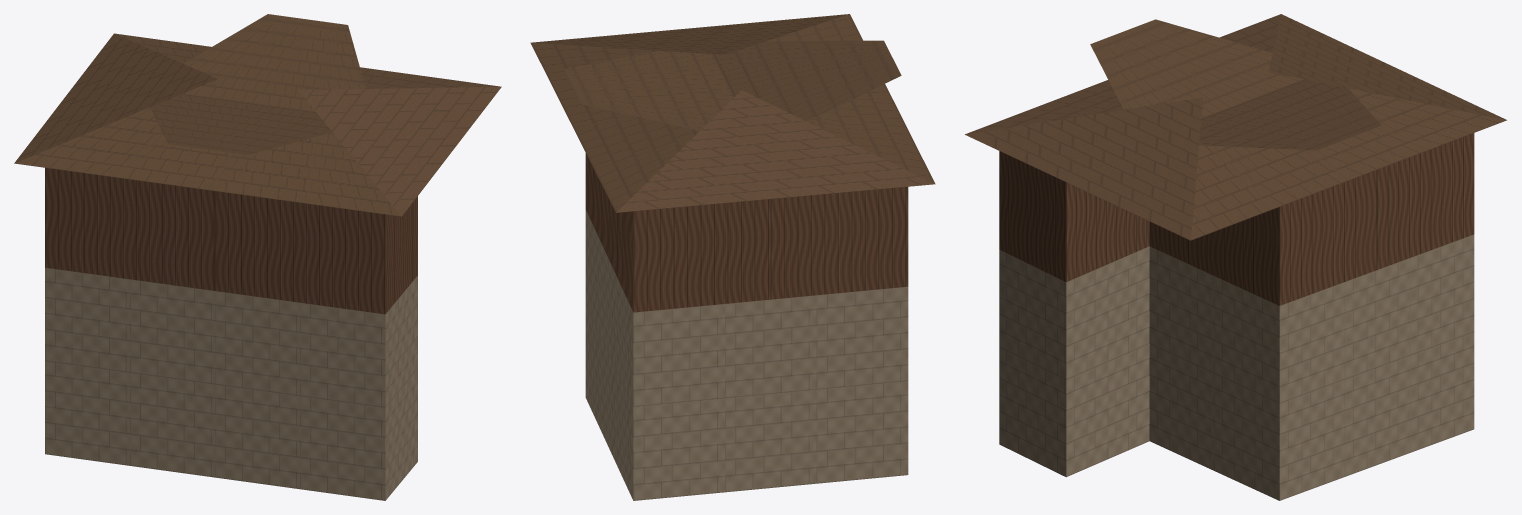
The model's file is bld_c-40_13_754.gltf.
The picture shows the model from 3 angles, left to right: view 1: azimuth 30°, elevation 25°; view 2: azimuth 150°, elevation 25°; view 3: azimuth 270°, elevation 25°; orthographic projection. The views are drawn at different scales.
Parts seen in each view (by area): view 1: bld_c-40_13_754; view 2: bld_c-40_13_754; view 3: bld_c-40_13_754.
Boxes of the visible parts, x1=… form: bld_c-40_13_754: x1=14, y1=14, x2=501, y2=500; bld_c-40_13_754: x1=530, y1=14, x2=935, y2=500; bld_c-40_13_754: x1=965, y1=14, x2=1506, y2=500.
Bounding box in the file's own units: 11.46 × 8.3 × 11.6.
3 materials, 3 textured.
